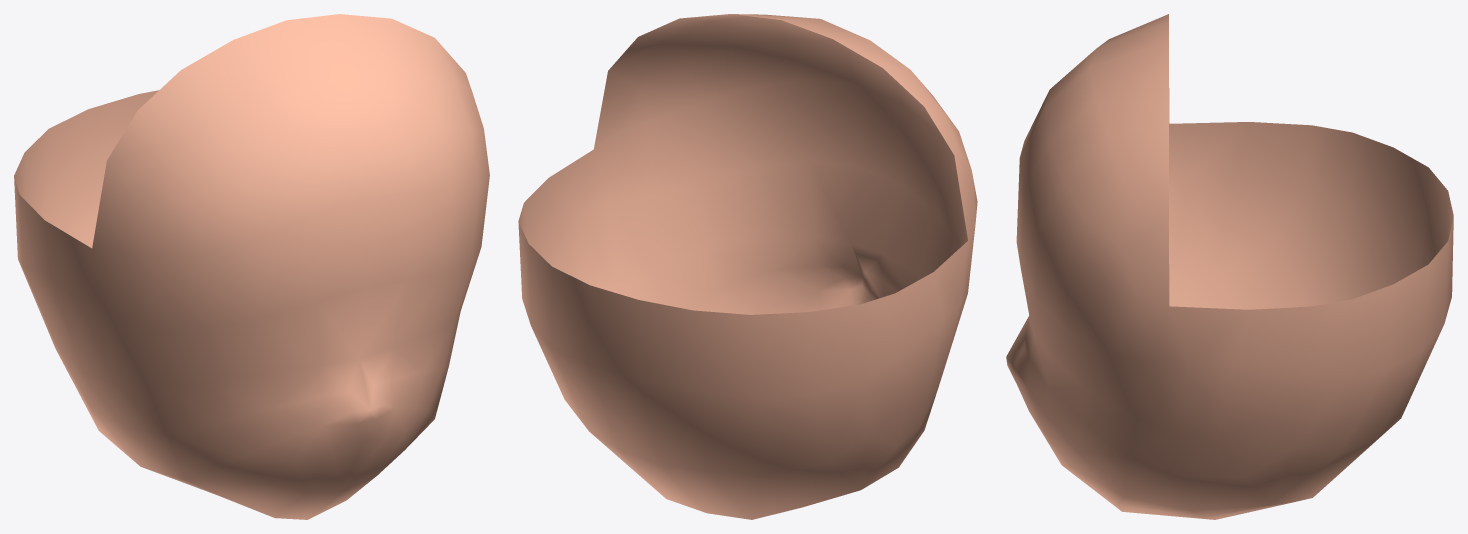
3 views of the same model, side by side, from view 1: azimuth 30°, elevation 25°; view 2: azimuth 150°, elevation 25°; view 3: azimuth 270°, elevation 25° (orthographic). The views are drawn at different scales.
Visible parts, largest first — view 1: AF_M_Face_17; view 2: AF_M_Face_17; view 3: AF_M_Face_17.
Part boxes in pixels (bbox=[...]): AF_M_Face_17: bbox=[14, 14, 489, 519]; AF_M_Face_17: bbox=[518, 14, 977, 519]; AF_M_Face_17: bbox=[1006, 14, 1453, 519].
Bounding box in the file's own units: 664 × 762 × 661.
1 material, 1 textured.
